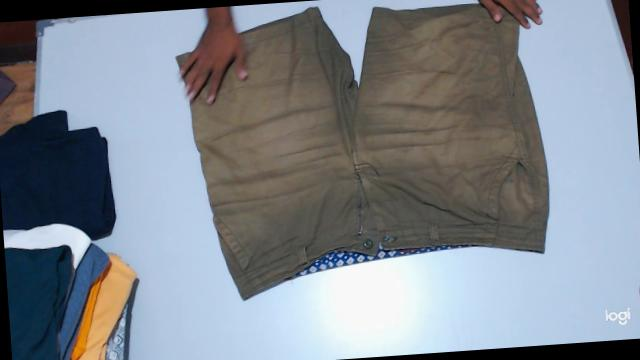new-garment: (190, 4, 548, 299)
